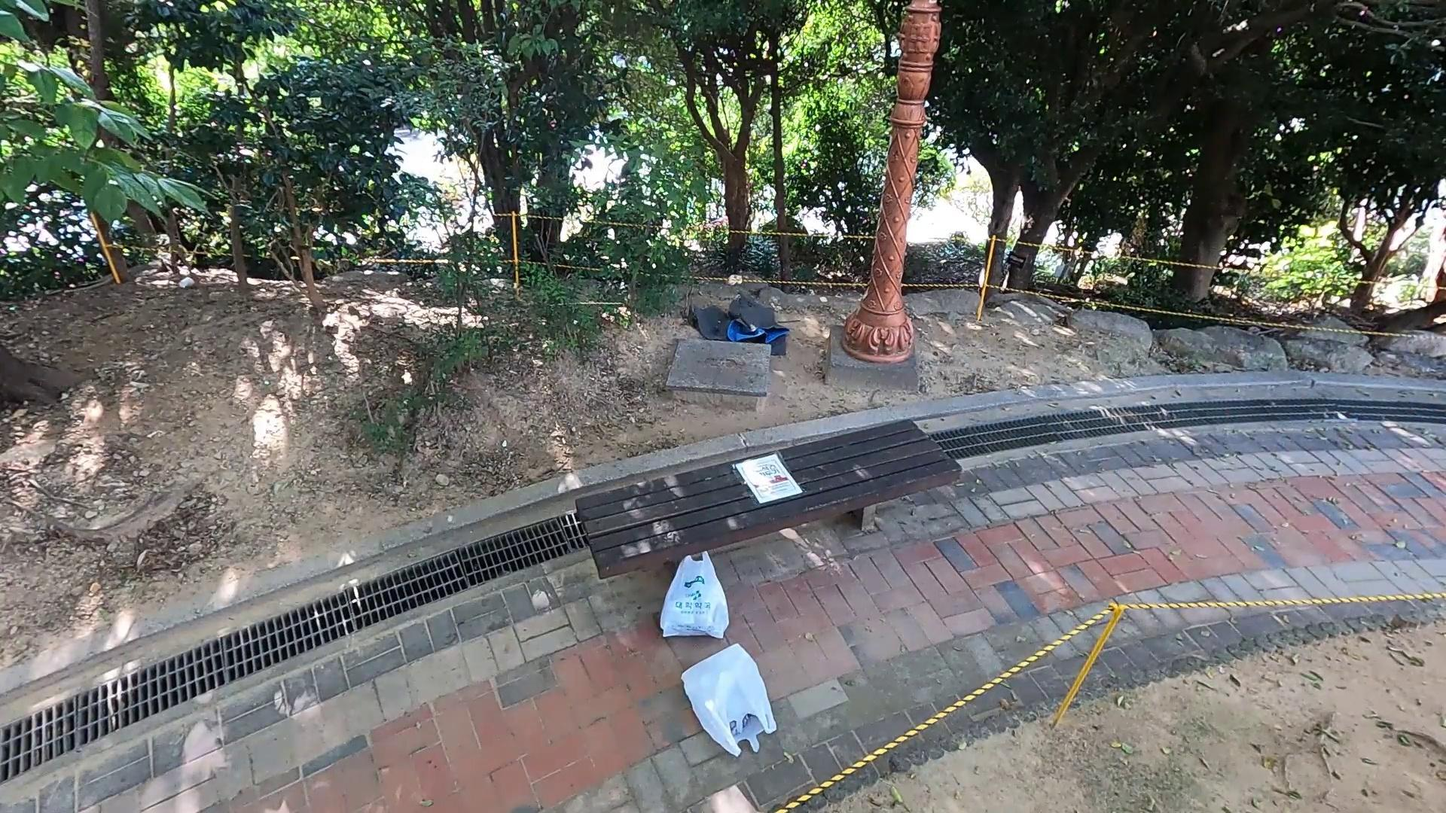trash: (672, 648, 783, 755), (687, 283, 796, 360), (651, 549, 740, 641)
